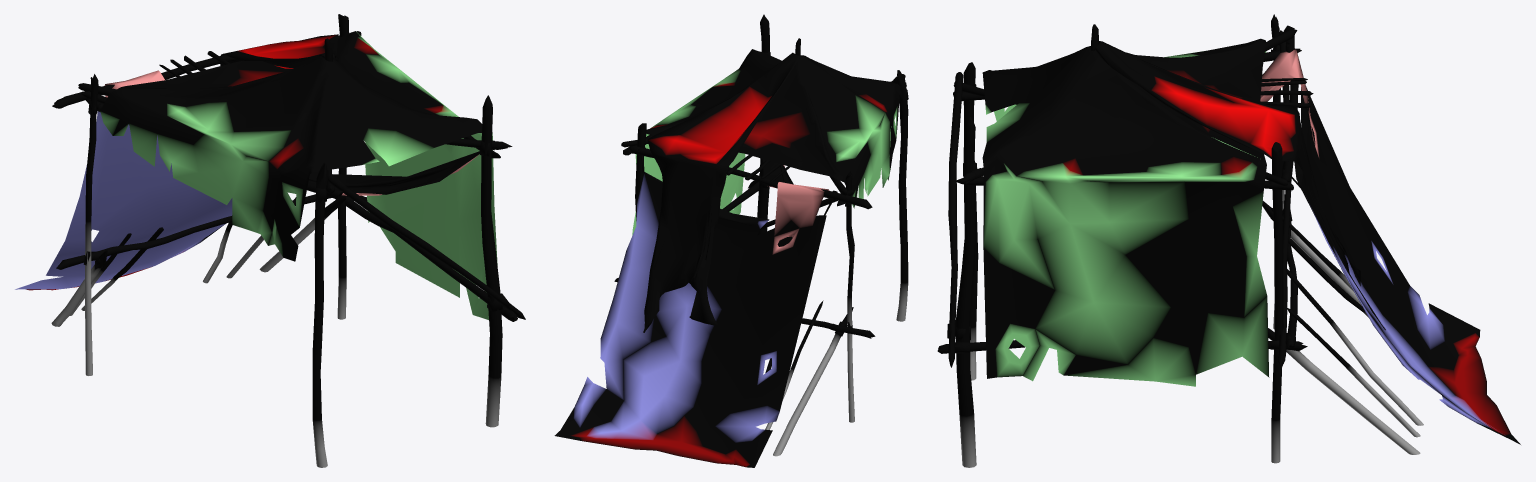
The model's file is tent_wooden_tribals_generic_village_A.gltf.
The picture shows the model from 3 angles, left to right: view 1: azimuth 30°, elevation 25°; view 2: azimuth 150°, elevation 25°; view 3: azimuth 270°, elevation 25°; orthographic projection. The views are drawn at different scales.
Visible parts, largest first — view 1: tent_wooden_tribals_generic_village_A; view 2: tent_wooden_tribals_generic_village_A; view 3: tent_wooden_tribals_generic_village_A.
Part boxes in pixels (x1,y1,x2,y2): tent_wooden_tribals_generic_village_A: (15, 14, 525, 467); tent_wooden_tribals_generic_village_A: (554, 14, 908, 467); tent_wooden_tribals_generic_village_A: (937, 14, 1520, 467).
Bounding box in the file's own units: 3.74 × 4.16 × 5.69.
